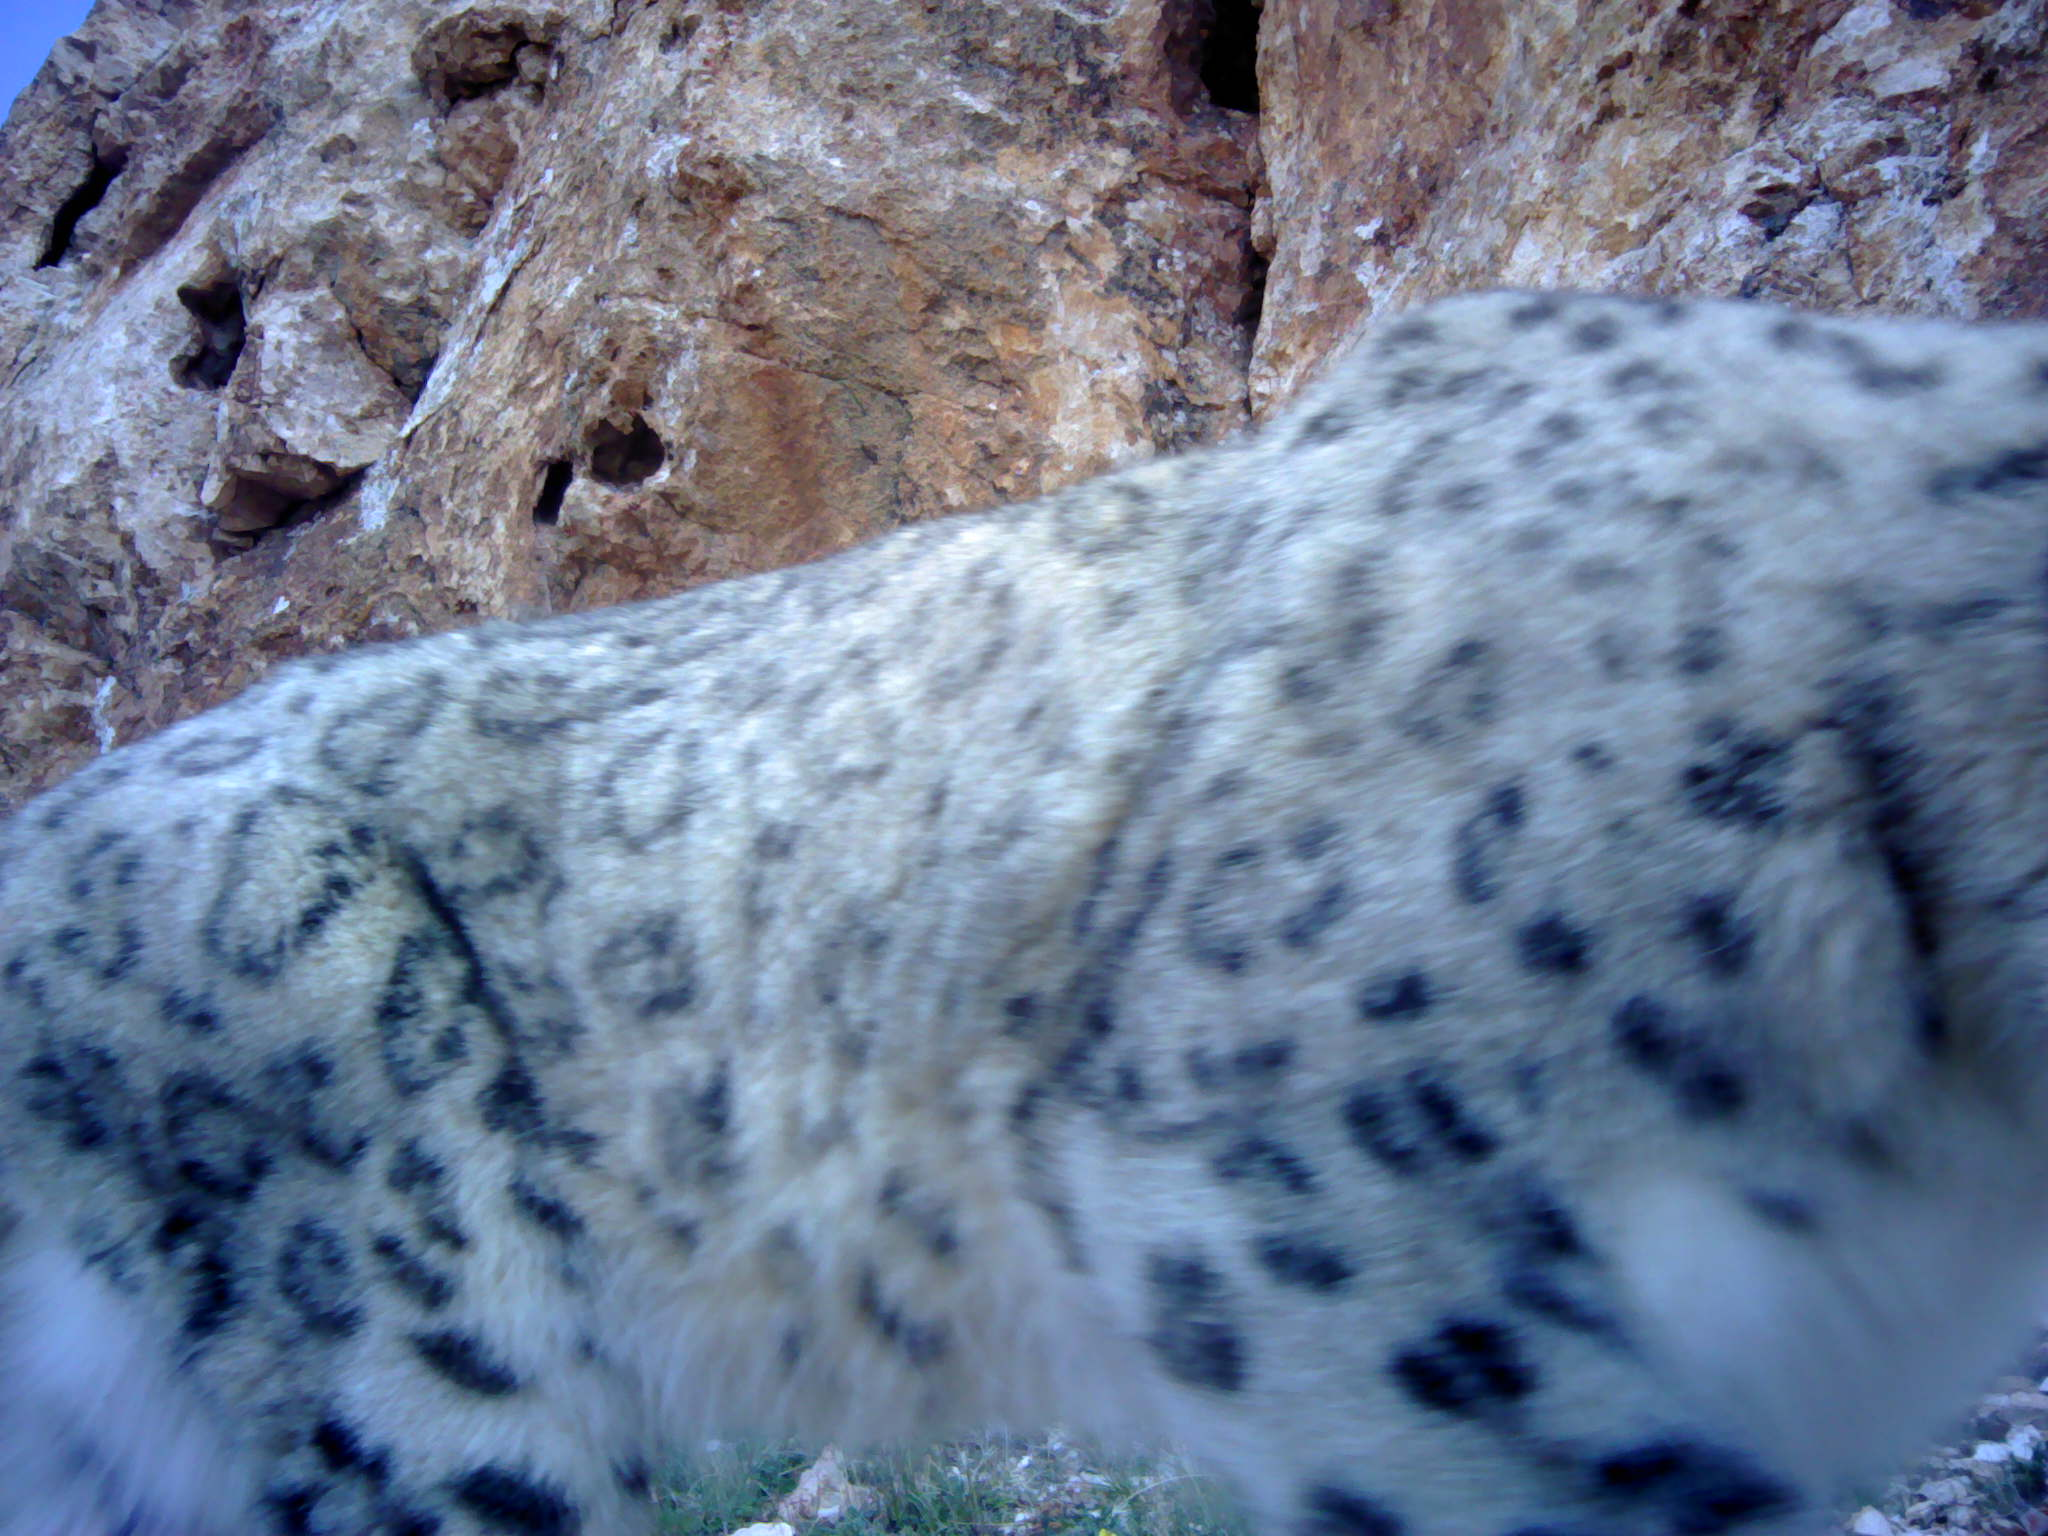Leopard: (2, 245, 2046, 1536)
